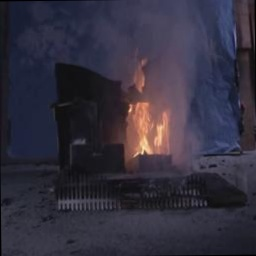fire: (112, 57, 184, 169)
